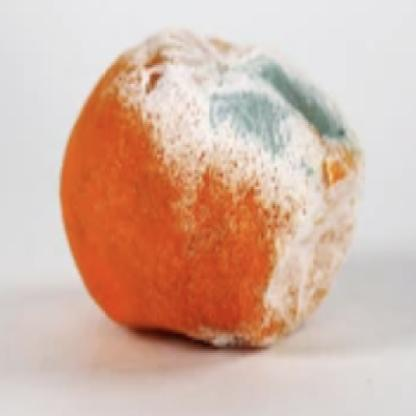rotten: (61, 36, 365, 364)
